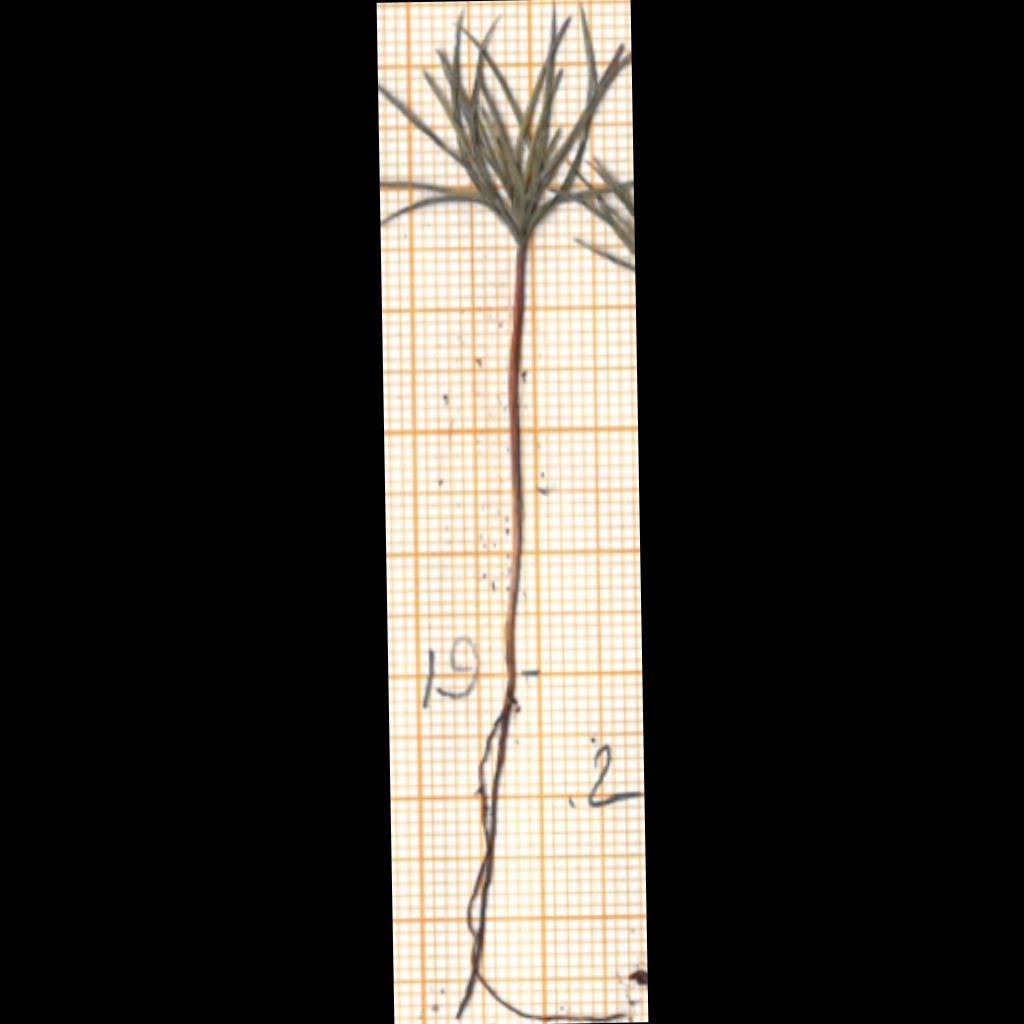flowerPinus: (378, 8, 631, 243)
rootPinus: (457, 685, 624, 1023)
stemPinus: (506, 246, 527, 679)
